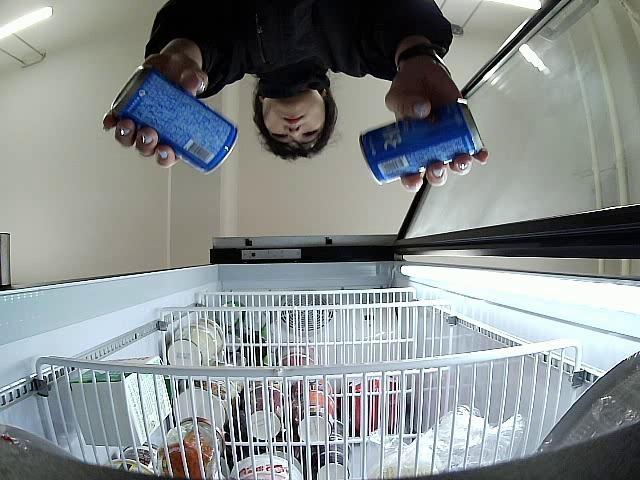15_letsbe: (109, 63, 240, 173), (358, 100, 486, 186)
